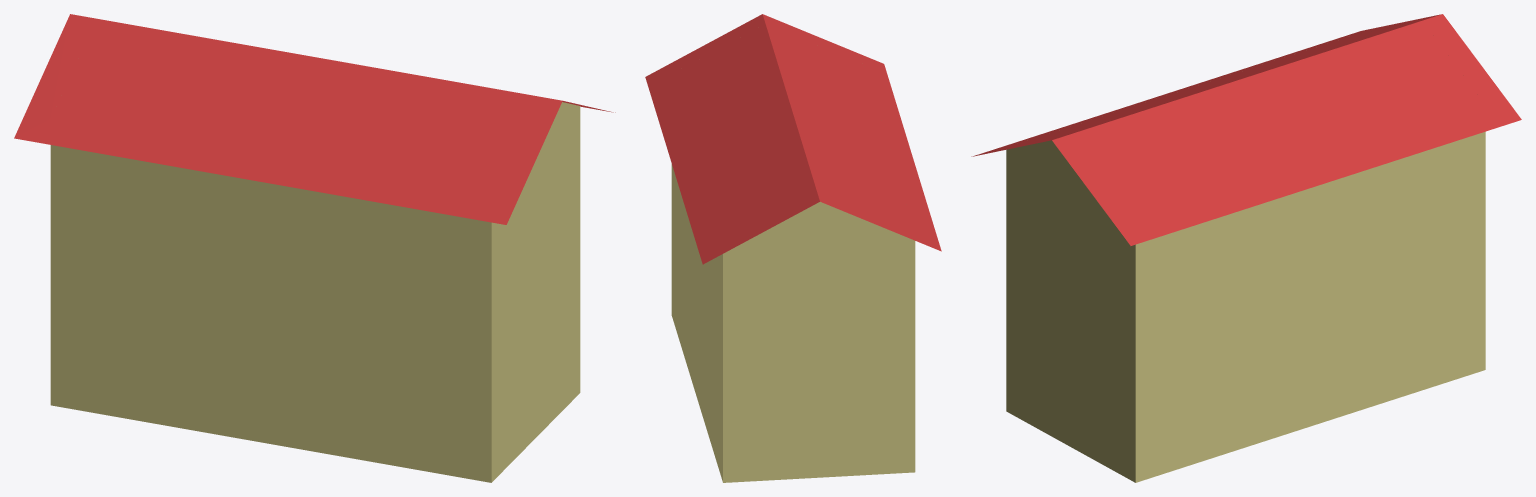
3 renders of one model, left to right at view 1: azimuth 30°, elevation 25°; view 2: azimuth 150°, elevation 25°; view 3: azimuth 270°, elevation 25°, orthographic. The views are drawn at different scales.
Bounding box in the file's own units: 14.78 × 16.01 × 10.06.
